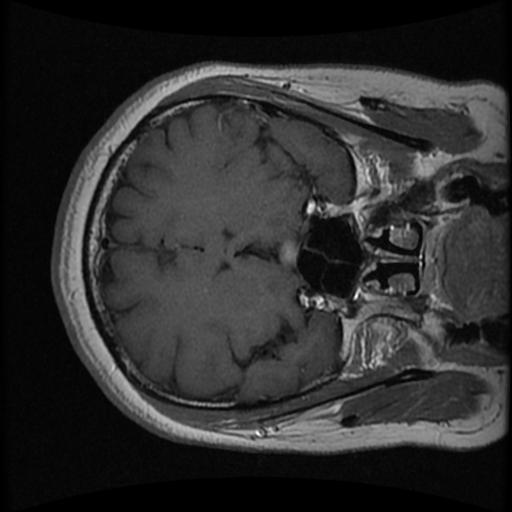pituitary tumour: (277, 237, 301, 270)
